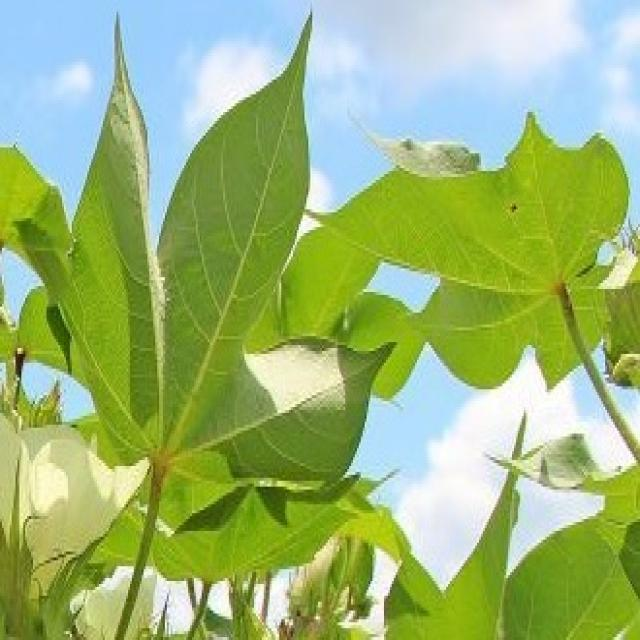Healthy Leaf: (0, 4, 640, 632)
